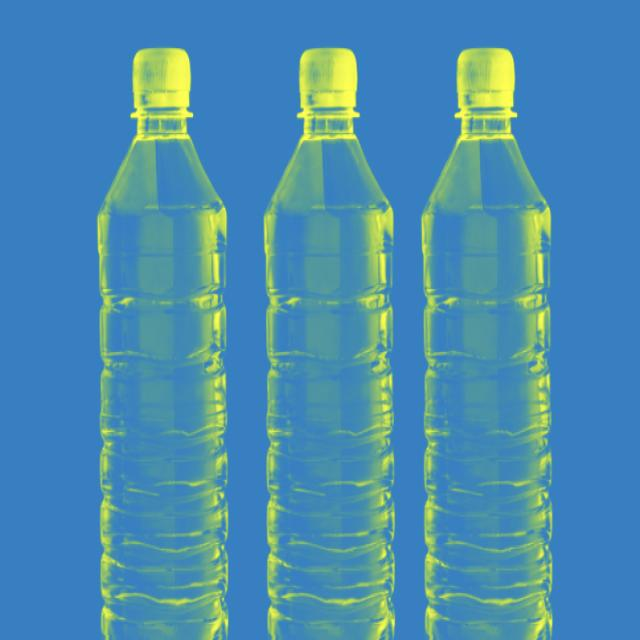recyclable: (235, 23, 418, 640), (406, 15, 580, 640), (82, 12, 253, 640)
